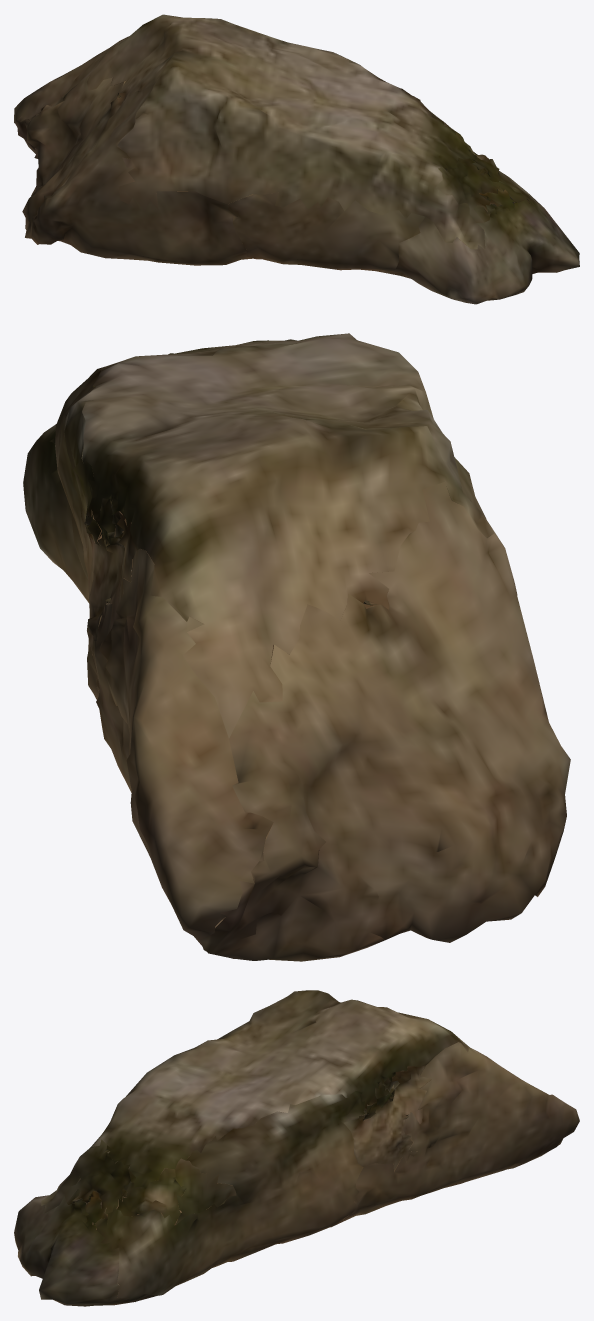
The model's file is rock_moss_set_01_c.gltf.lod.glb.
3 renders of one model, top to bottom at view 1: azimuth 30°, elevation 25°; view 2: azimuth 150°, elevation 25°; view 3: azimuth 270°, elevation 25°, orthographic. The views are drawn at different scales.
Visible parts, largest first — view 1: rock_moss_set_01_rock02; view 2: rock_moss_set_01_rock02; view 3: rock_moss_set_01_rock02.
Part boxes in pixels (left/top/right/bottom): rock_moss_set_01_rock02: left=14, top=14, right=579, bottom=304; rock_moss_set_01_rock02: left=23, top=333, right=570, bottom=961; rock_moss_set_01_rock02: left=14, top=990, right=579, bottom=1306.
Bounding box in the file's own units: 2.65 × 1.26 × 3.26.
1 material, 1 textured.
